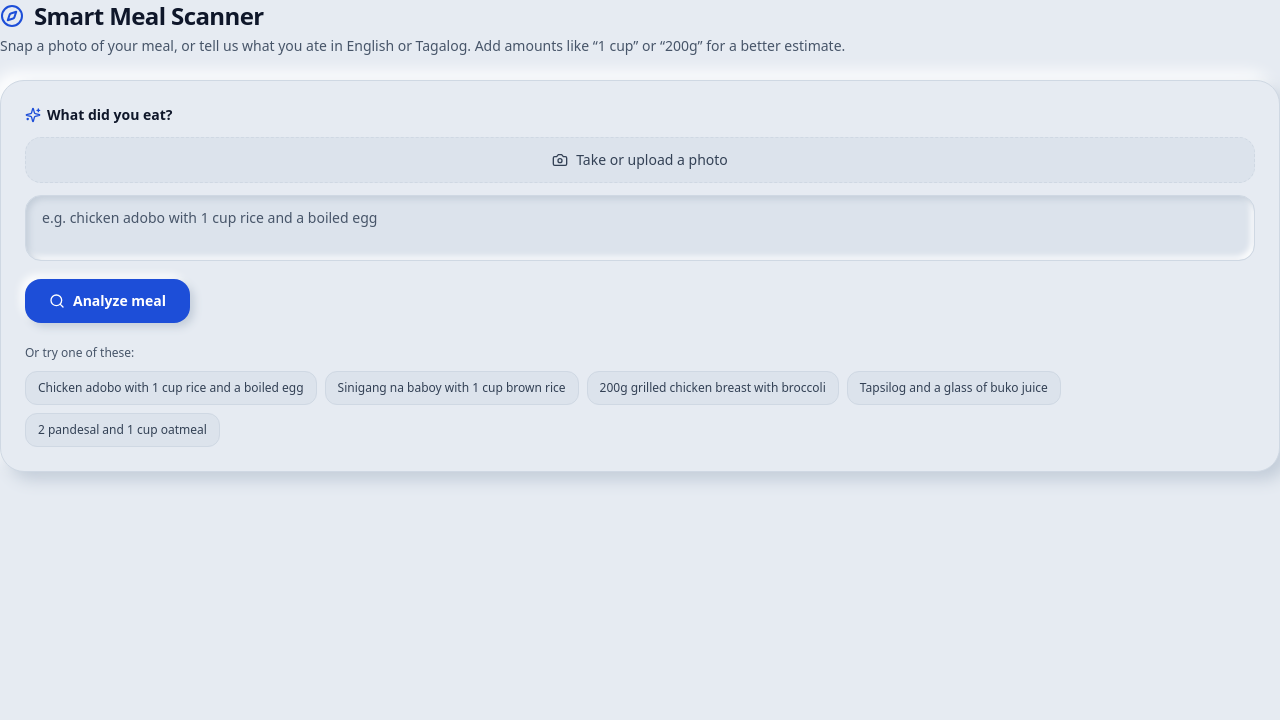
Test: meal scanner confirmation › confirms a photo + note analysis and that typed amounts were used
In the text box labelled "What did you eat?": [640, 228] box [25,195,1255,261], type "I only had 120g chicken adobo"
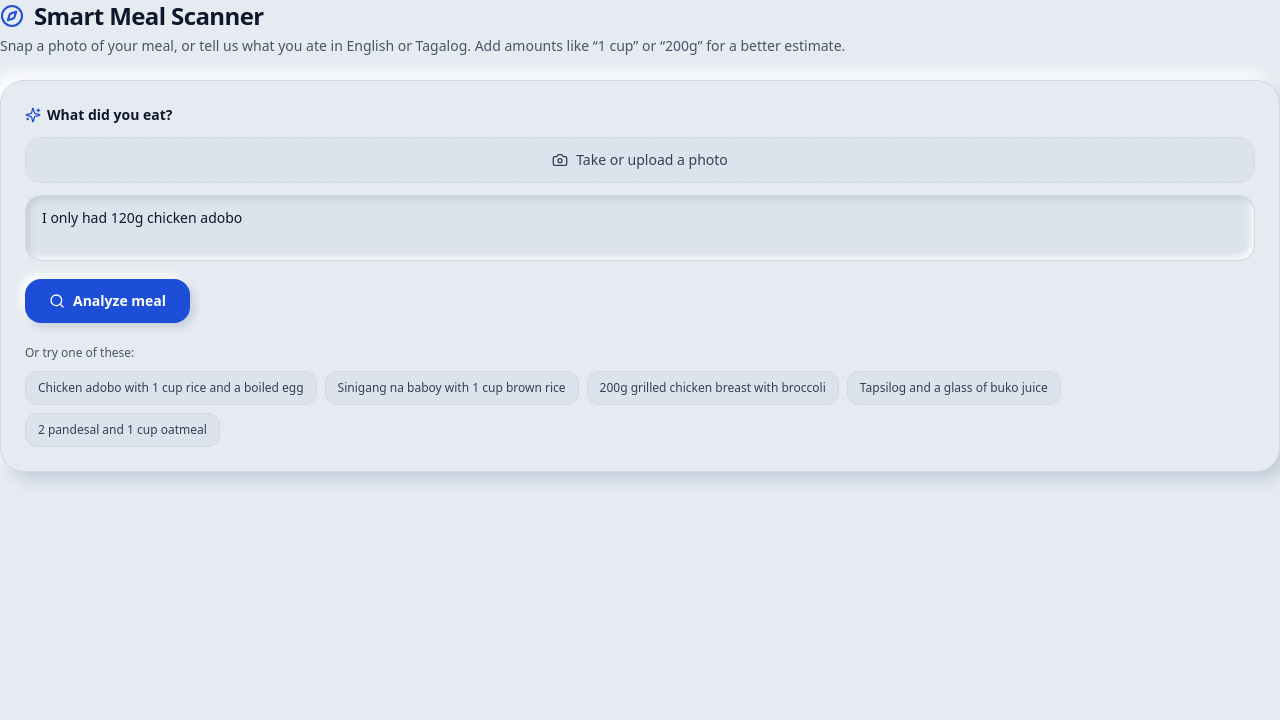
Click the button "Analyze meal": [108, 301] box [25,279,190,323]
(page scrolled)
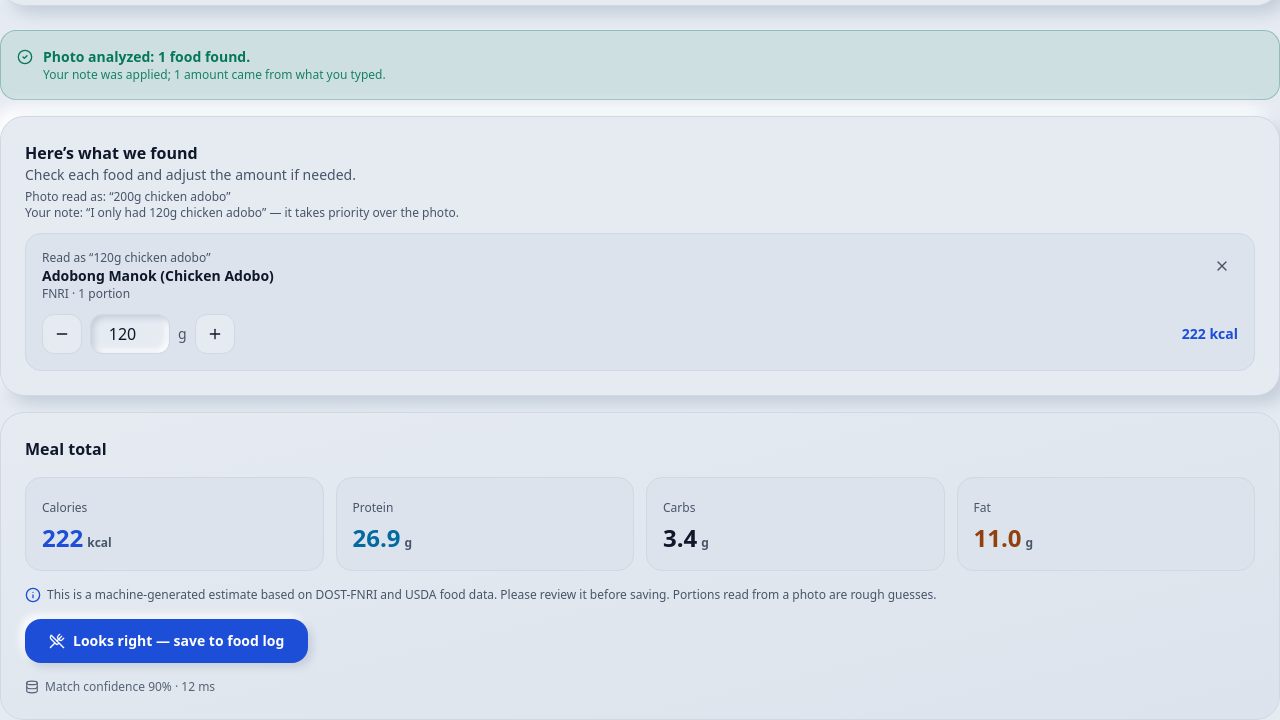
Expected: the message shows "Photo analyzed: 1 food found.", [43,47,250,66]
Expected: the message shows "1 amount came from what you typed", [43,66,386,83]
Expected: the text "takes priority over the photo" is shown, [262,204,459,221]
